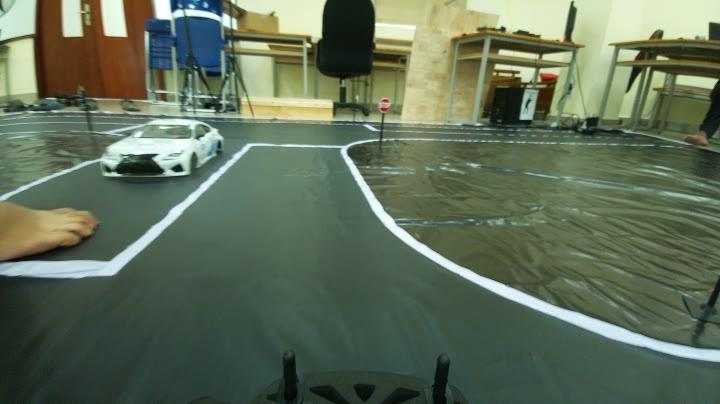car: (108, 117, 214, 182)
stop: (373, 95, 395, 112)
